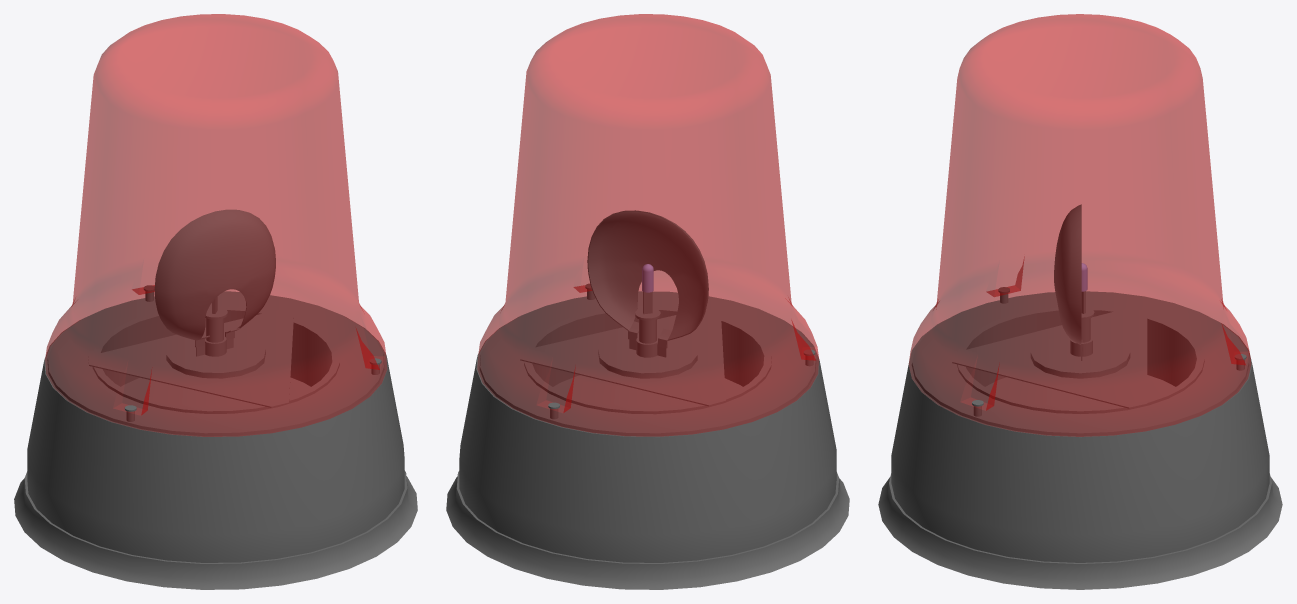
Rendered from sirena.fbx.
3 views of the same model, side by side, from view 1: azimuth 30°, elevation 25°; view 2: azimuth 150°, elevation 25°; view 3: azimuth 270°, elevation 25° (orthographic).
Parts seen in each view (by area): view 1: Sirena; view 2: Sirena; view 3: Sirena.
Boxes of the visible parts, box(x1,y1,x2,y2) form: Sirena: box(14, 14, 417, 589); Sirena: box(446, 14, 849, 589); Sirena: box(878, 14, 1282, 589).
Size of the model in its own units: 3.5 by 4.27 by 3.5.
